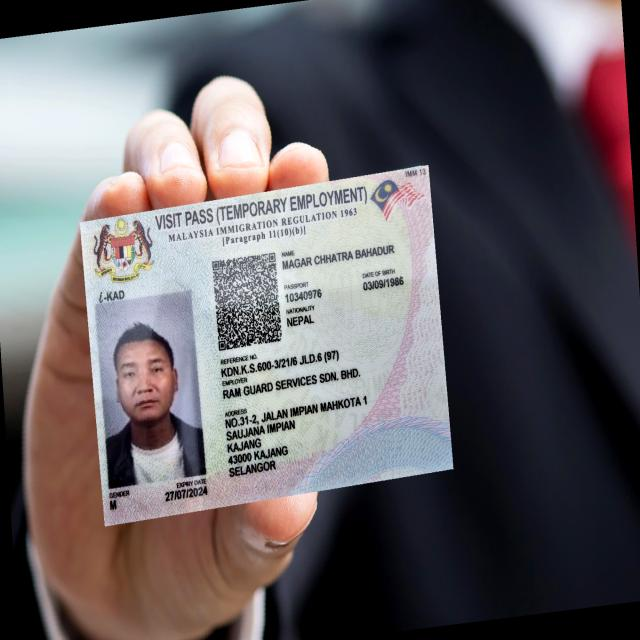ikad-temp: (78, 164, 454, 526)
